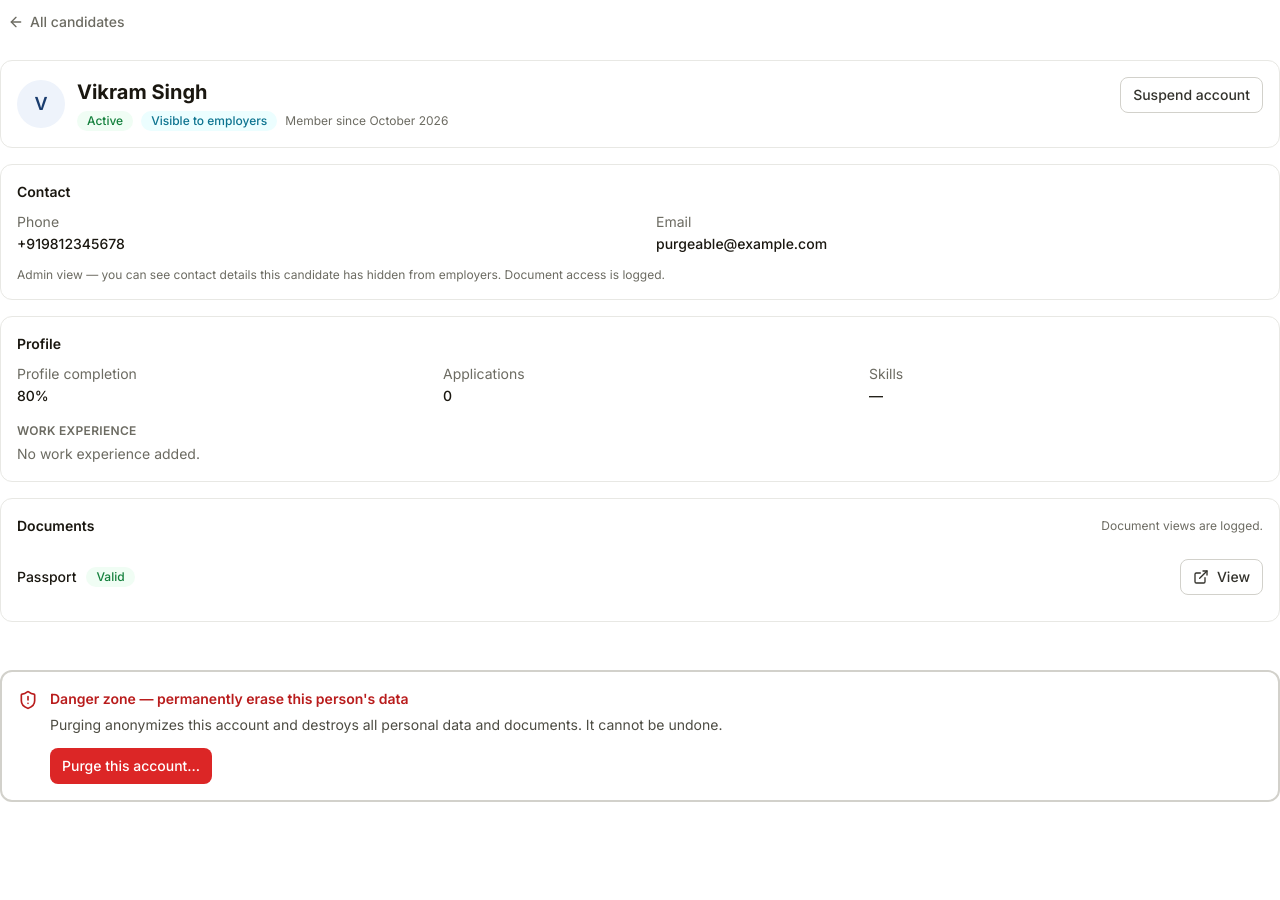
Test: AdminCandidateProfile › 409 CANDIDATE_ALREADY_PURGED renders calmly (refetch, no crash)
Expected: the heading "Vikram Singh" is shown, [77,80,208,104]
Click the button "Purge this account…": (131, 766) [50,748,212,784]
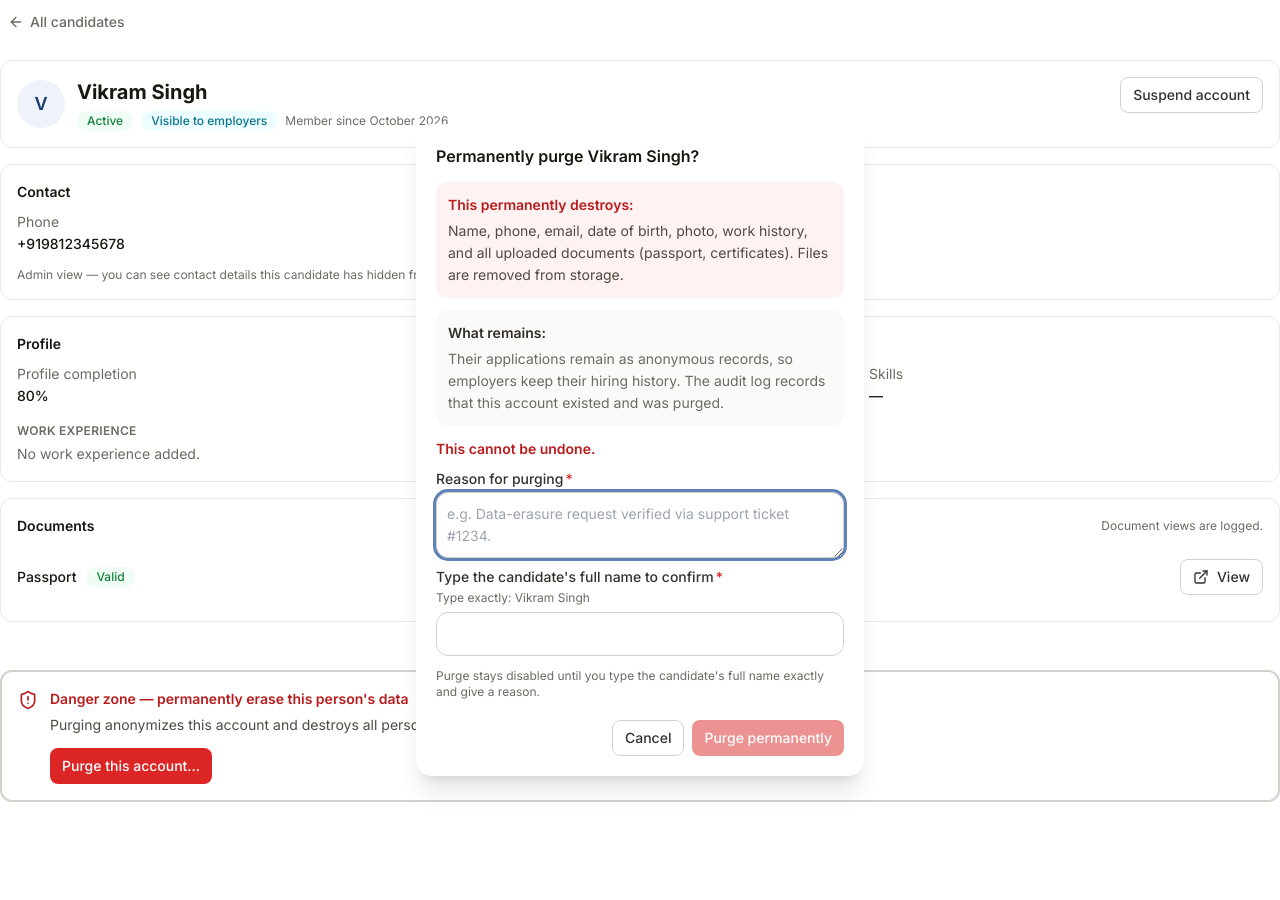
In the text box labelled "Reason for purging*": (640, 525) [436,492,844,558], type "x"
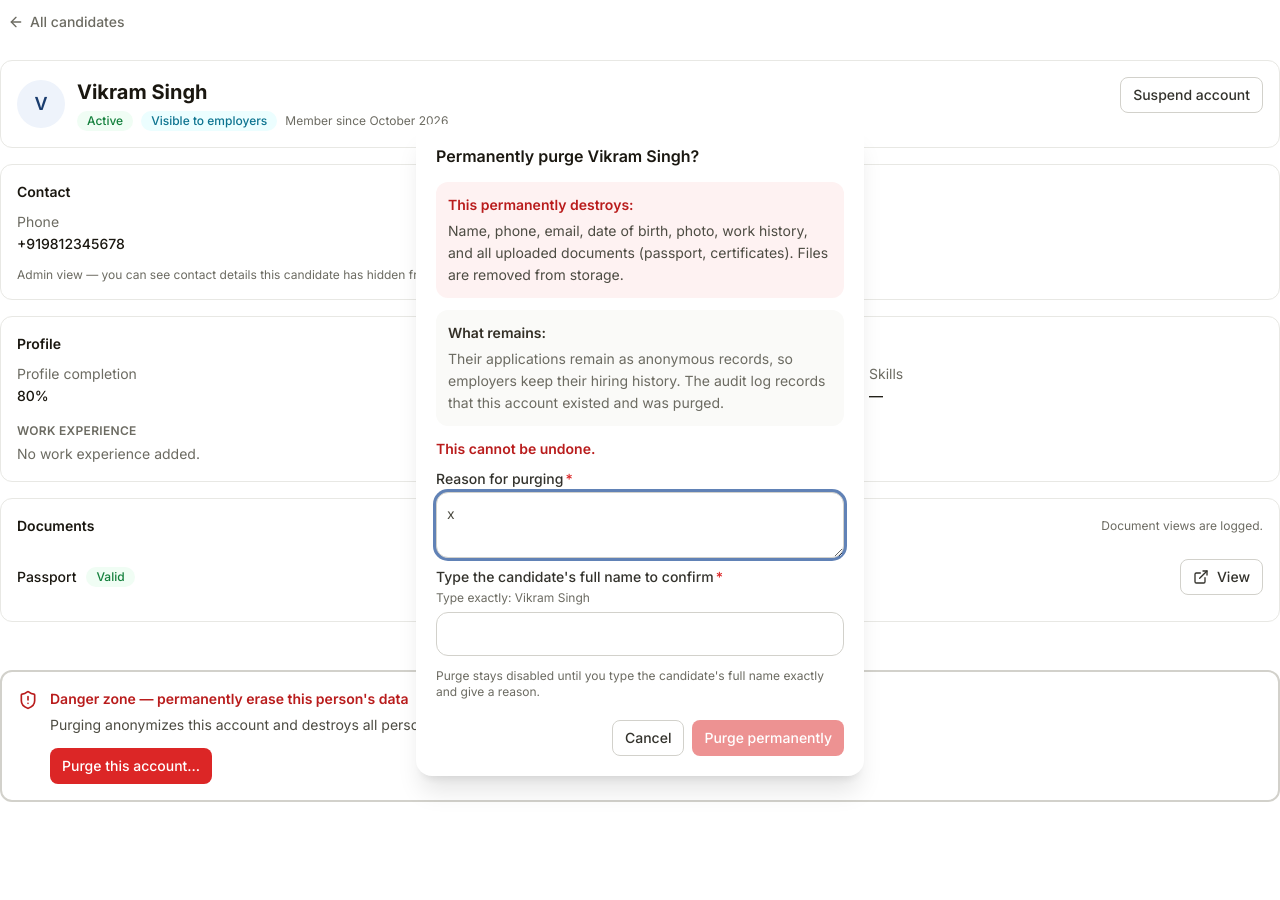
In the field labelled "Type the candidate's full name to confirm*": (640, 634) [436,612,844,656], type "Vikram Singh"
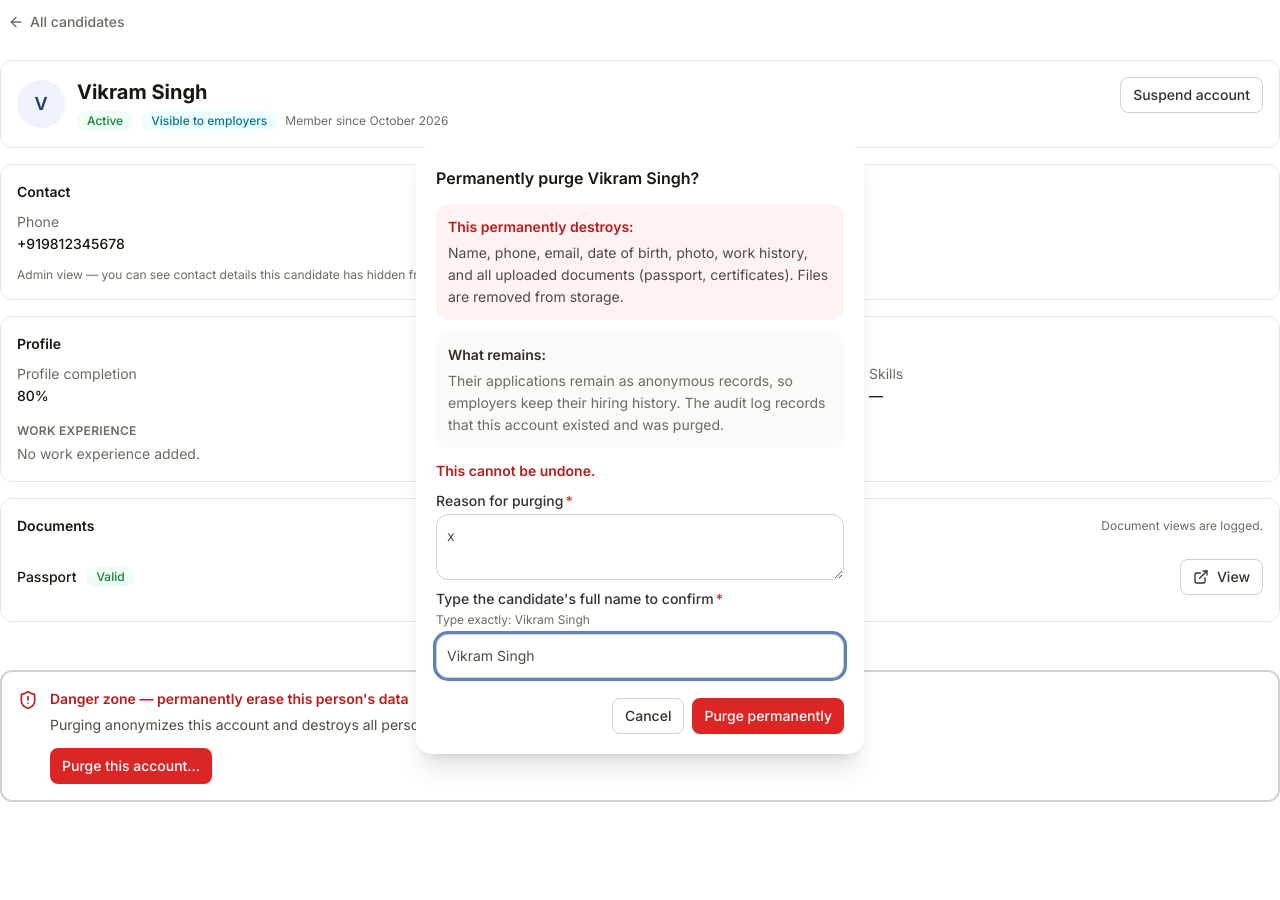
Click the button "Purge permanently": (768, 716) [692,698,844,734]
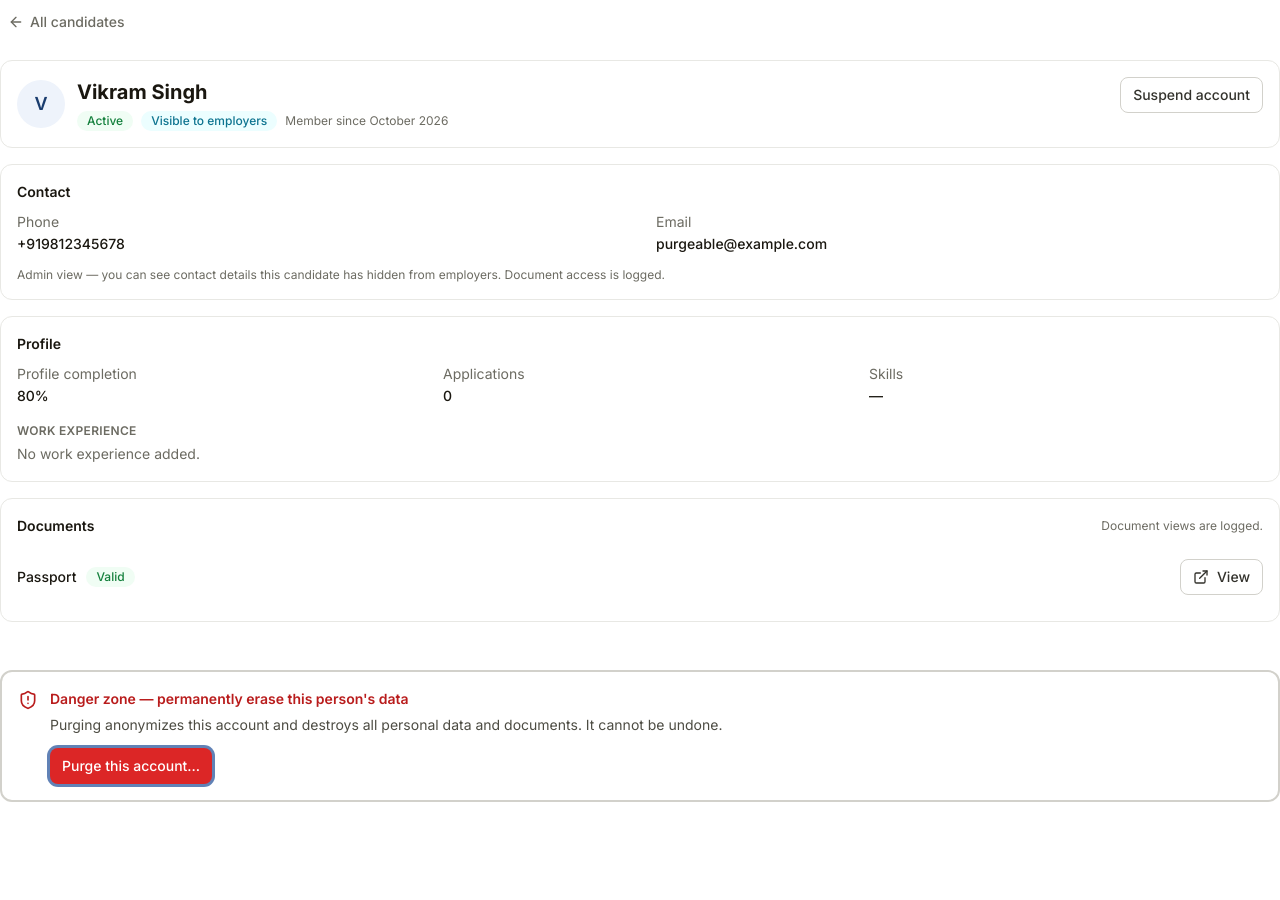
Expected: the heading "Vikram Singh" is shown, [77,80,208,104]
Expected: the dialog is gone
